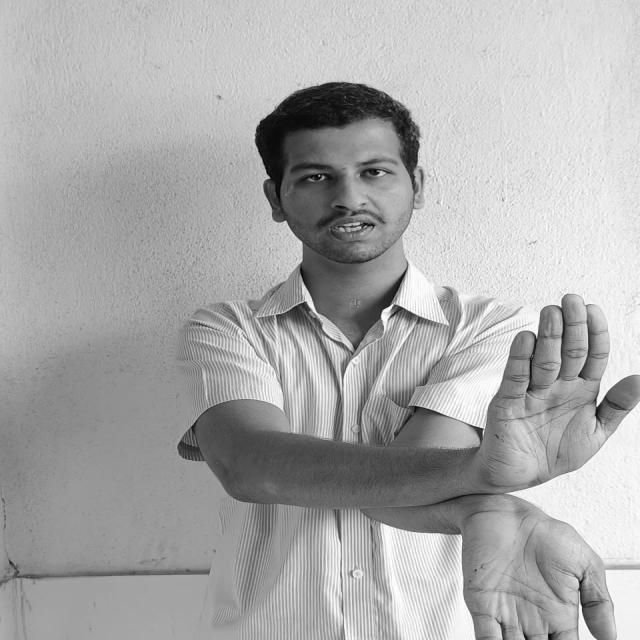Morning: (465, 294, 640, 640)
